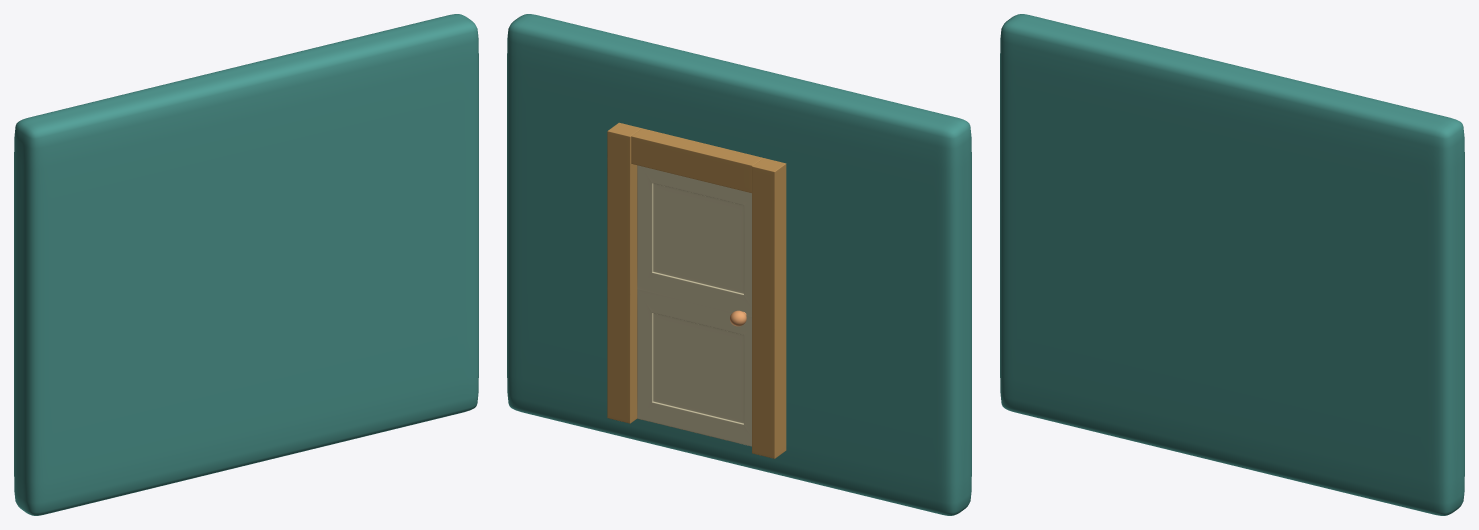
Rendered from wall4.gltf.
3 views of the same model, side by side, from view 1: azimuth 30°, elevation 25°; view 2: azimuth 150°, elevation 25°; view 3: azimuth 330°, elevation 25° (orthographic).
Visible parts, largest first — view 1: walls.008; view 2: walls.008, door; view 3: walls.008.
Boxes of the visible parts, left/top/right/bottom form: walls.008: left=14, top=14, right=478, bottom=515; walls.008: left=507, top=14, right=971, bottom=515; door: left=607, top=122, right=786, bottom=458; walls.008: left=1000, top=14, right=1464, bottom=515.
Bounding box in the file's own units: 2.96 × 2.43 × 0.4095.
